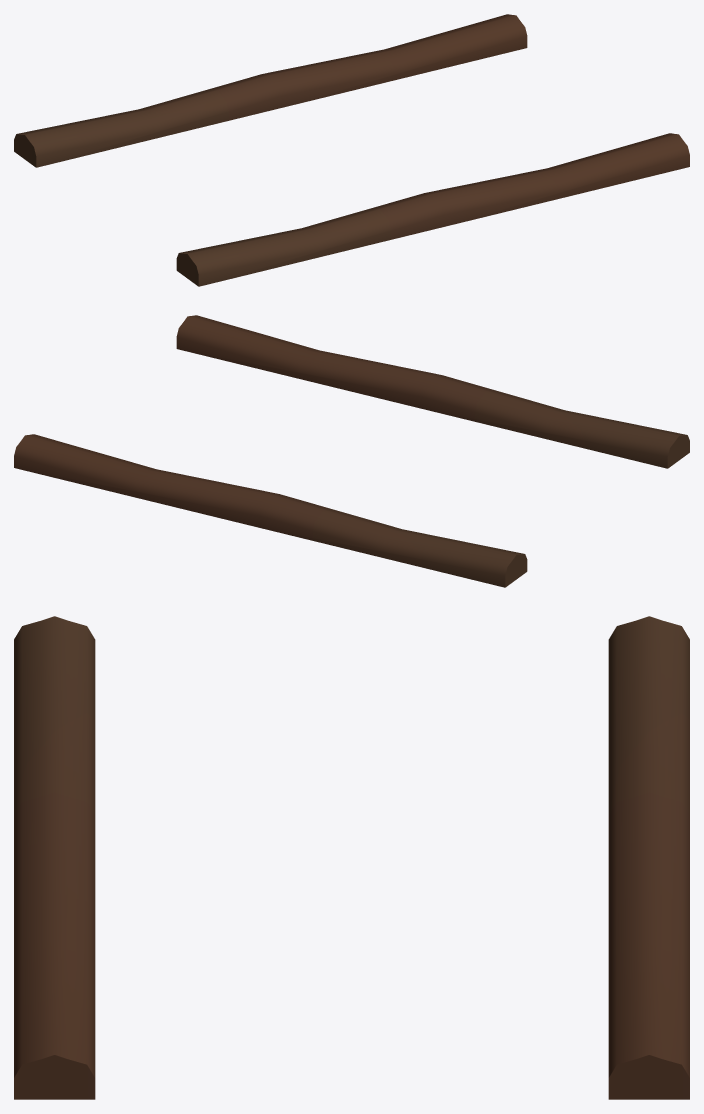
File: DirtBikeTrackBarriers.glb
3 views of the same model, one above another, from view 1: azimuth 30°, elevation 25°; view 2: azimuth 150°, elevation 25°; view 3: azimuth 270°, elevation 25° (orthographic). The views are drawn at different scales.
Visible parts, largest first — view 1: DirtBikeTrackBarriers; view 2: DirtBikeTrackBarriers; view 3: DirtBikeTrackBarriers.
Part boxes in pixels (bbox=[...]): DirtBikeTrackBarriers: bbox=[14, 14, 689, 286]; DirtBikeTrackBarriers: bbox=[14, 315, 689, 587]; DirtBikeTrackBarriers: bbox=[14, 616, 689, 1099].
Bounding box in the file's own units: 8 × 0.3824 × 5.21.
1 material, 1 textured.
